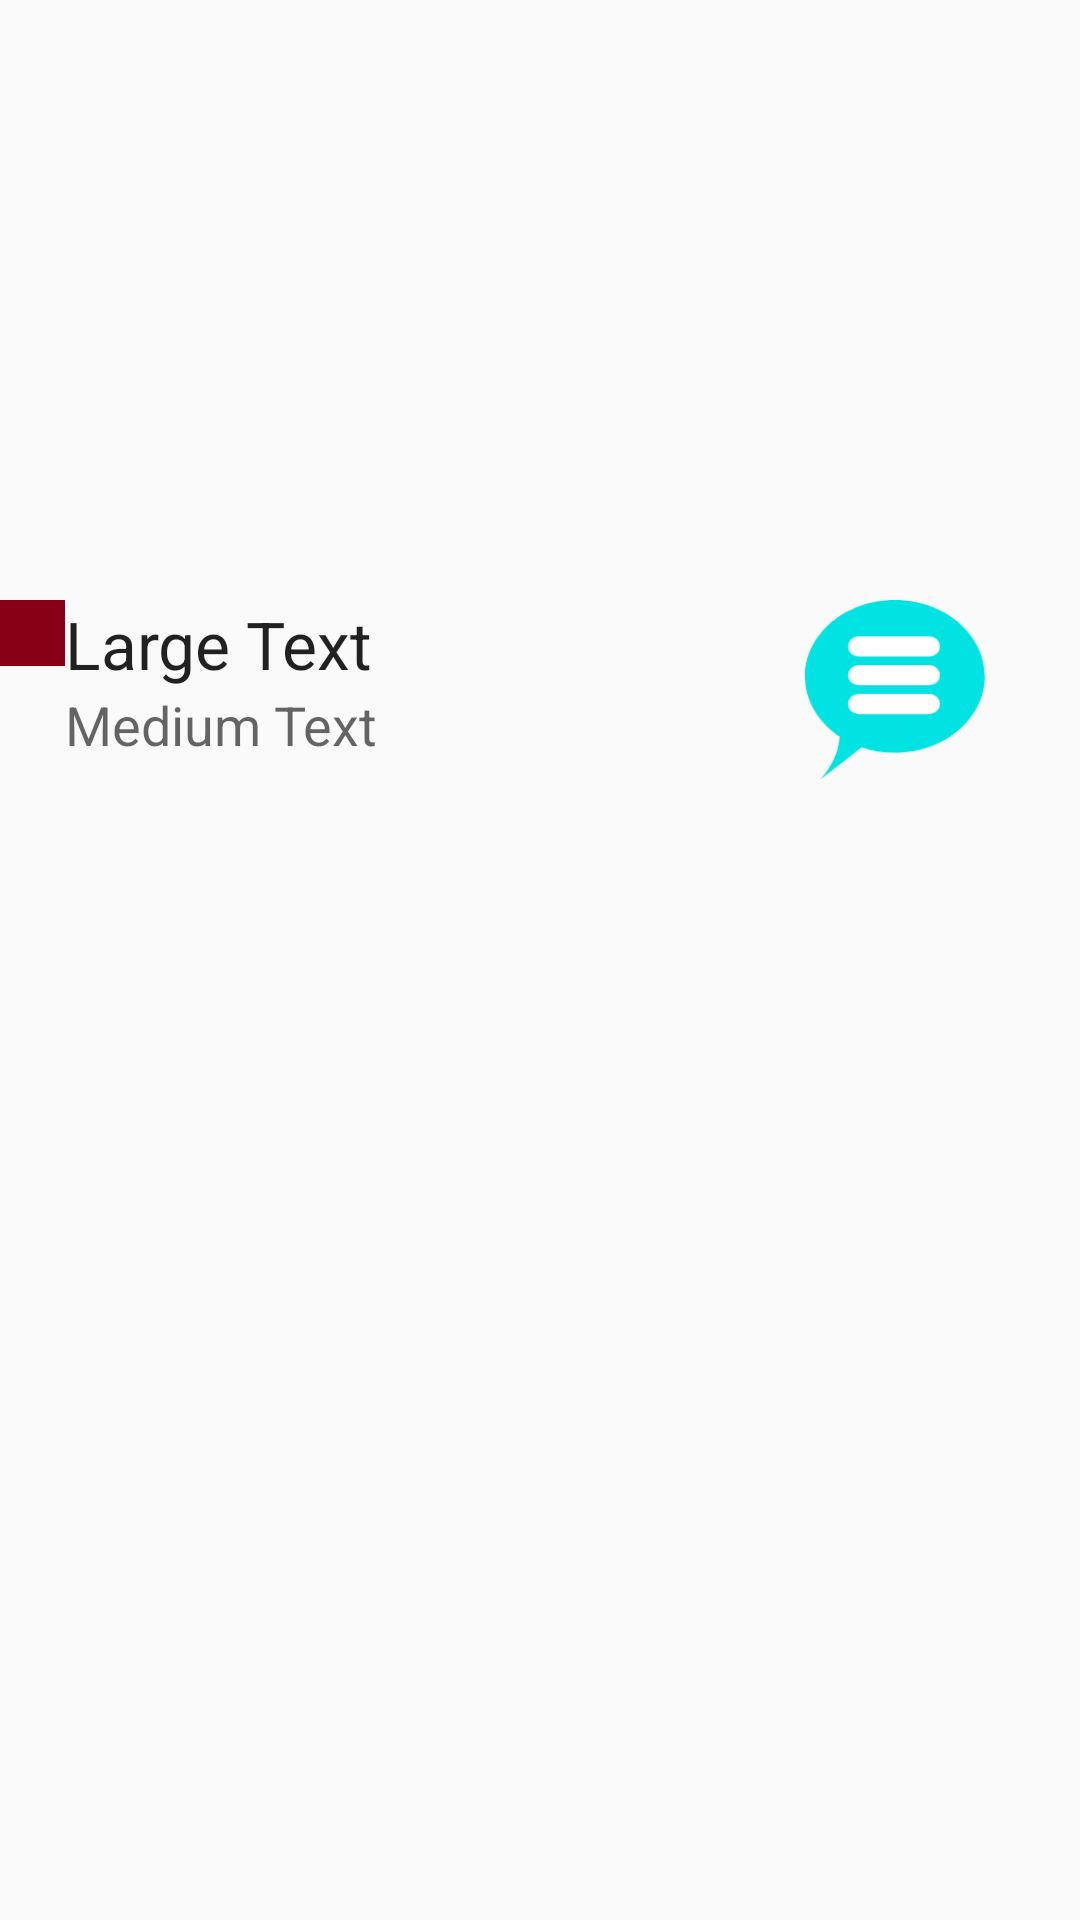

Named icons in this screenshot (1080*1920) and their bounding boxes, (x1, y1, x2, y2):
sendchat: (805, 600, 985, 779)
